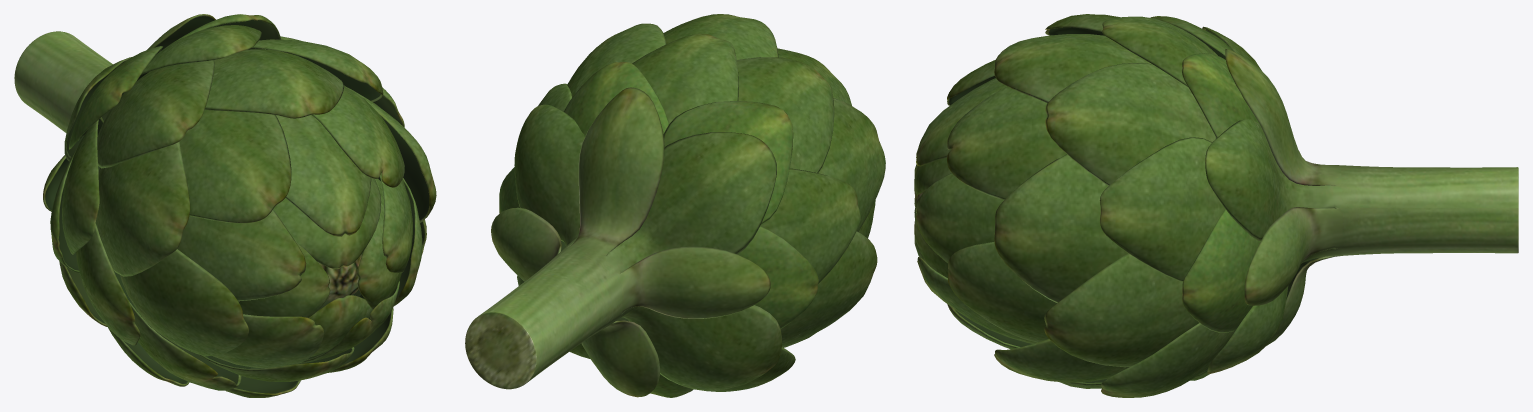
The model's file is artichoke.obj.
3 views of the same model, side by side, from view 1: azimuth 30°, elevation 25°; view 2: azimuth 150°, elevation 25°; view 3: azimuth 270°, elevation 25° (orthographic). The views are drawn at different scales.
Visible parts, largest first — view 1: Vegetable; view 2: Vegetable; view 3: Vegetable.
Boxes of the visible parts, <box> form: Vegetable: <box>14,14,436,397</box>; Vegetable: <box>465,14,885,397</box>; Vegetable: <box>914,14,1518,397</box>.
Bounding box in the file's own units: 7.02 × 7.07 × 11.08.
Materials: 1 (1 with a texture image).
